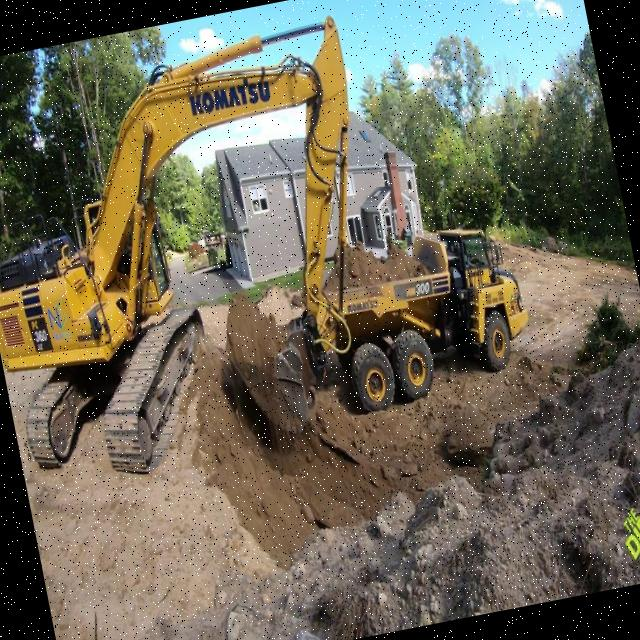Dump Truck: (314, 210, 540, 418)
Excavator: (0, 3, 415, 495)
